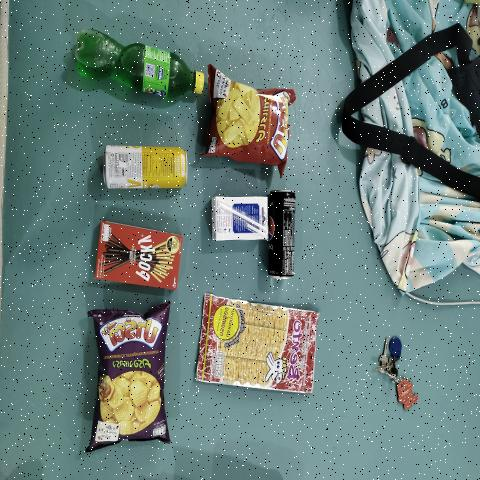bento_red: (201, 310, 319, 384)
fanta_green: (71, 25, 204, 101)
party_purple: (97, 307, 165, 441)
party_red: (212, 92, 289, 164)
pepsi_black: (269, 190, 296, 277)
pokki: (92, 222, 182, 290)
singha_yellow: (103, 144, 189, 190)
thai_denmark: (213, 195, 268, 240)
